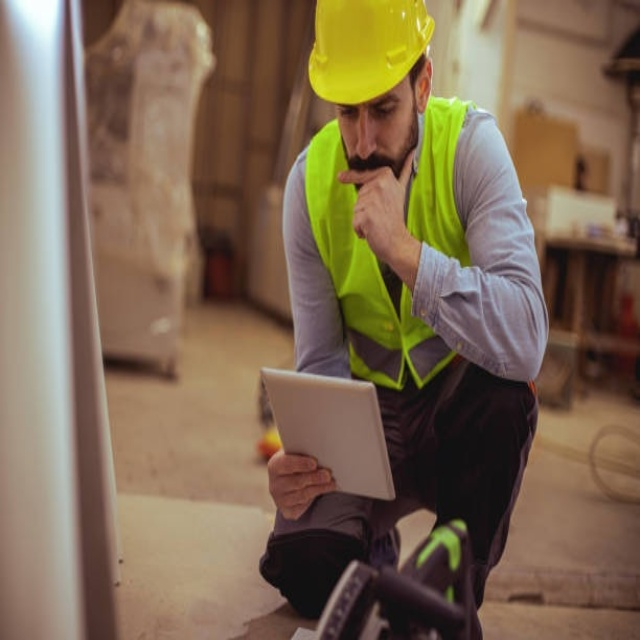Sin_gafas: (334, 82, 406, 127)
Sin_guantes: (334, 163, 410, 238), (266, 445, 335, 521)
Sin_mascara: (343, 149, 400, 173)
